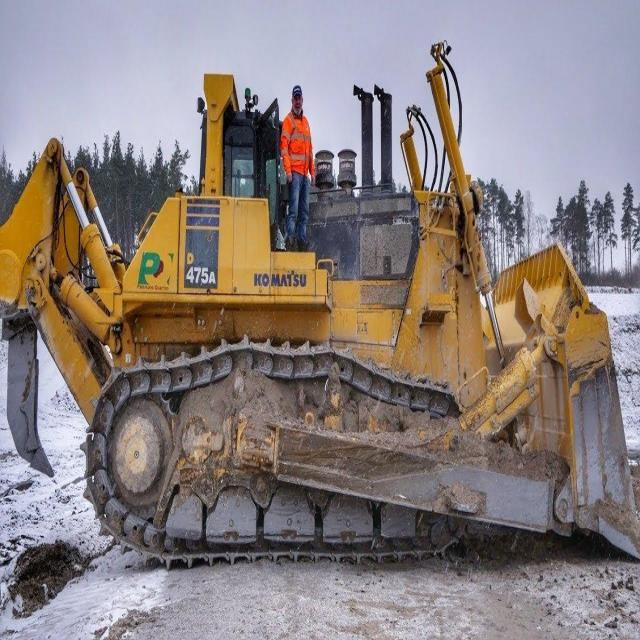Bulldozer: (8, 79, 640, 612)
